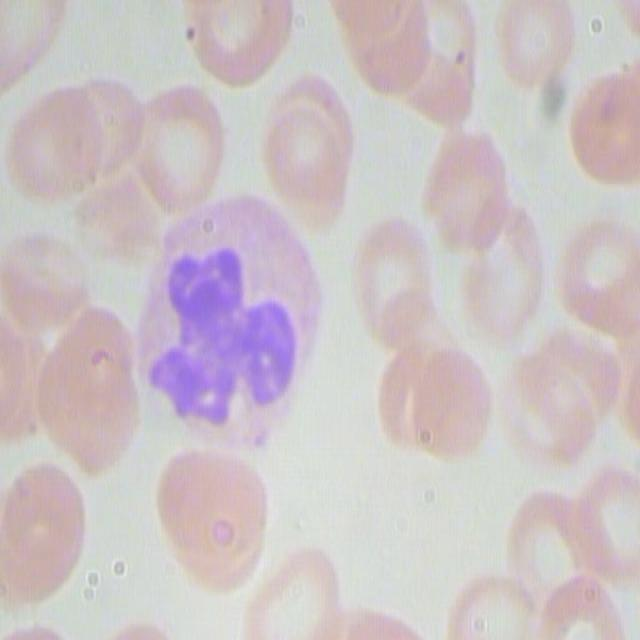RBC: (381, 194, 548, 362), (22, 295, 138, 488), (347, 1, 483, 124), (158, 443, 268, 592), (263, 73, 353, 241), (372, 345, 493, 462), (129, 80, 232, 214), (501, 489, 602, 614), (450, 1, 578, 97), (547, 206, 640, 328), (0, 461, 81, 601), (422, 129, 512, 252), (17, 87, 111, 204), (237, 540, 347, 638), (351, 216, 436, 339), (567, 456, 640, 589), (565, 65, 640, 188), (181, 0, 289, 84), (441, 566, 554, 640), (398, 0, 480, 100), (532, 575, 626, 640), (0, 0, 65, 92)
WBC: (140, 189, 326, 464)
